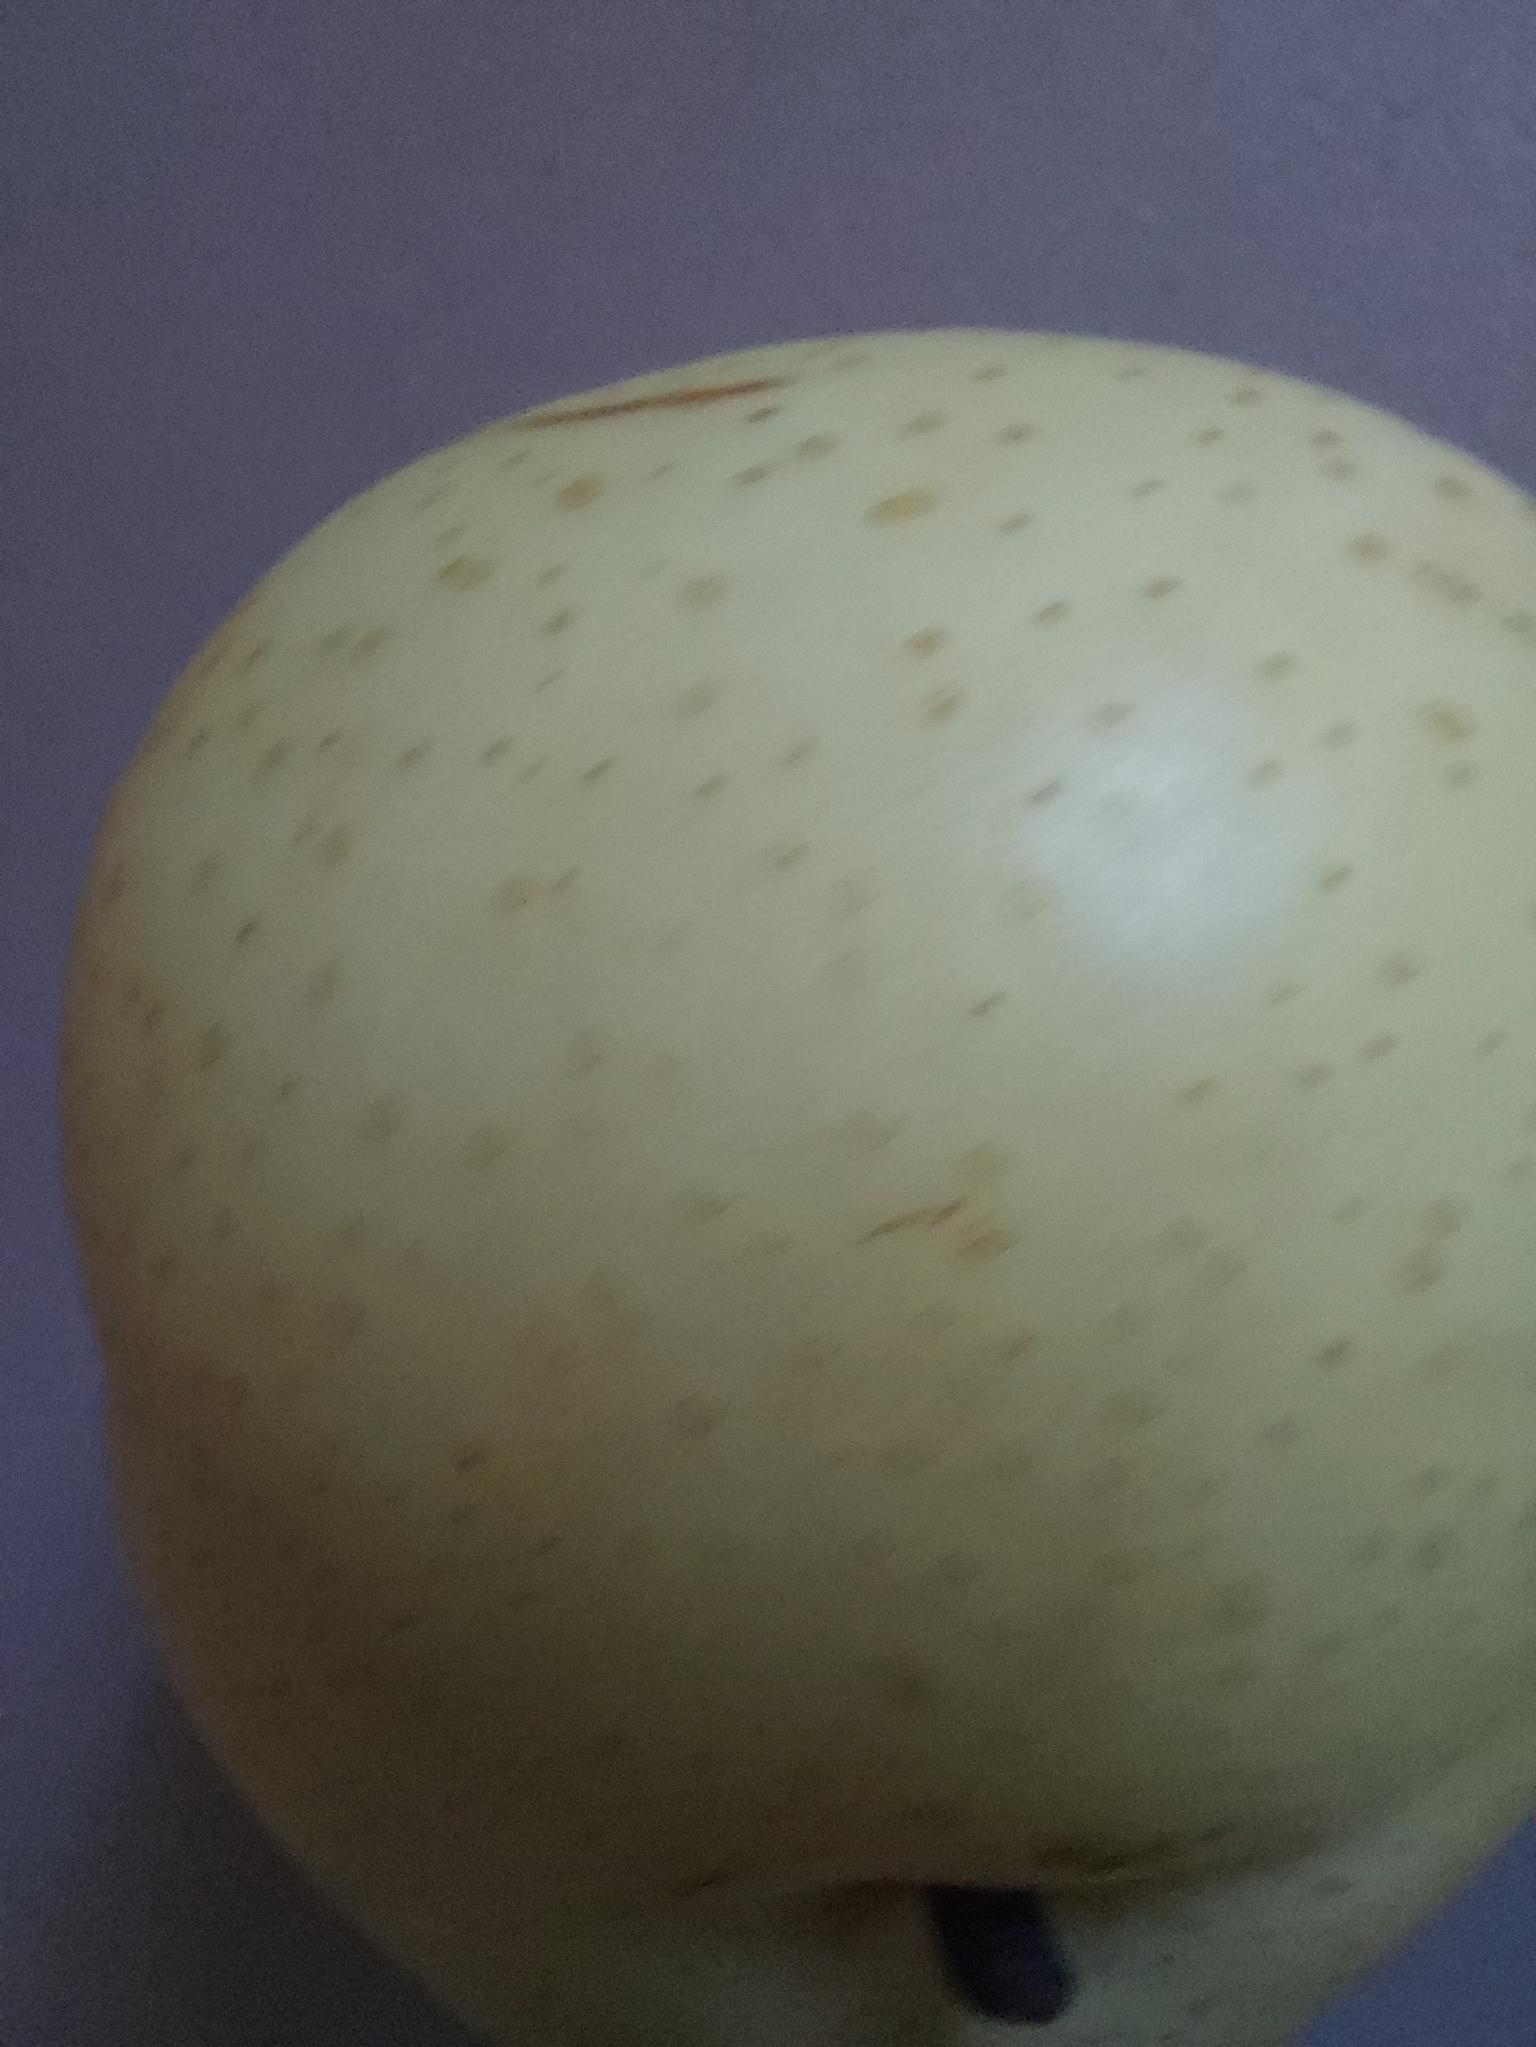Good Pear: (3, 273, 1536, 2047)
